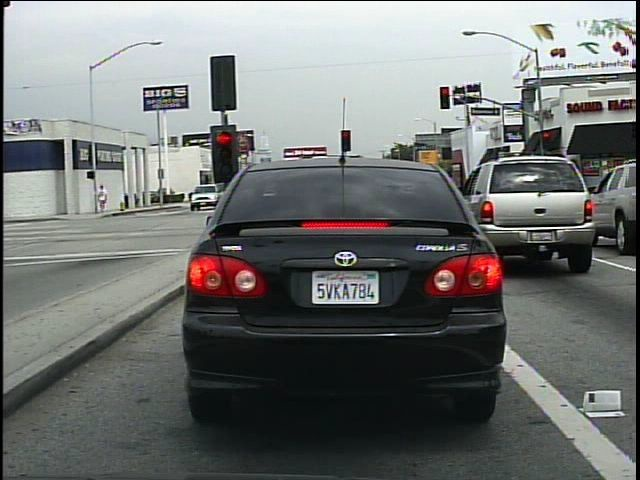person: (95, 183, 110, 213)
